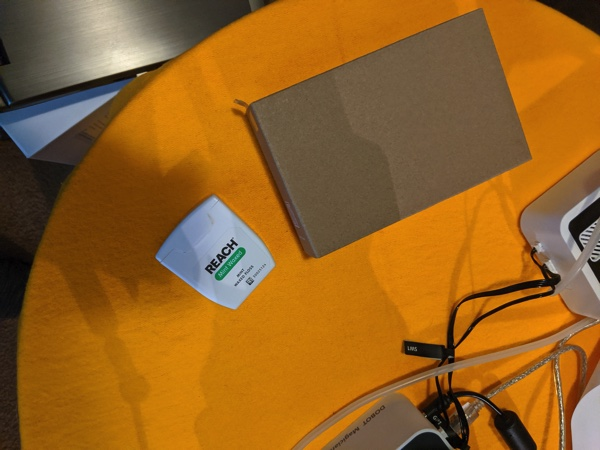cardboard: (240, 6, 546, 264)
plastic: (137, 180, 287, 325)
